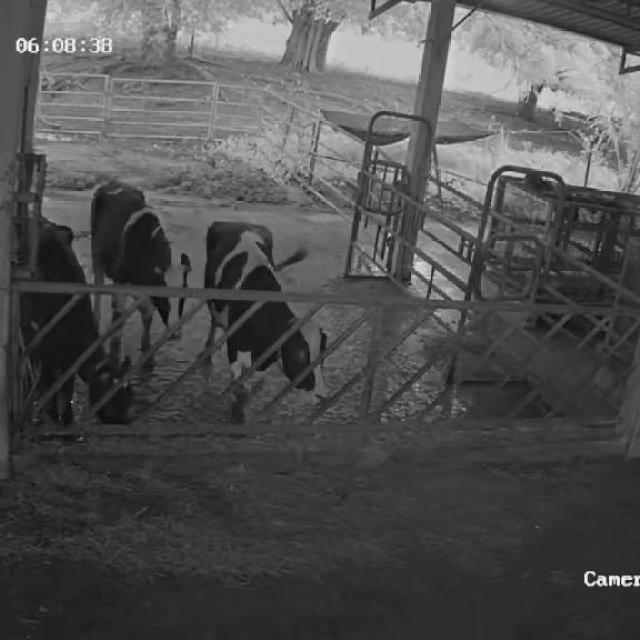standing: (195, 214, 334, 433), (21, 216, 135, 440), (81, 172, 196, 384)
